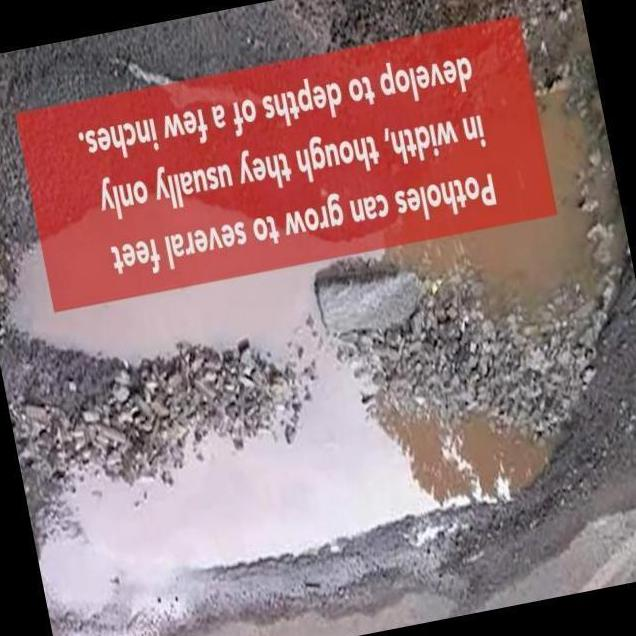pothole: (5, 80, 628, 626)
